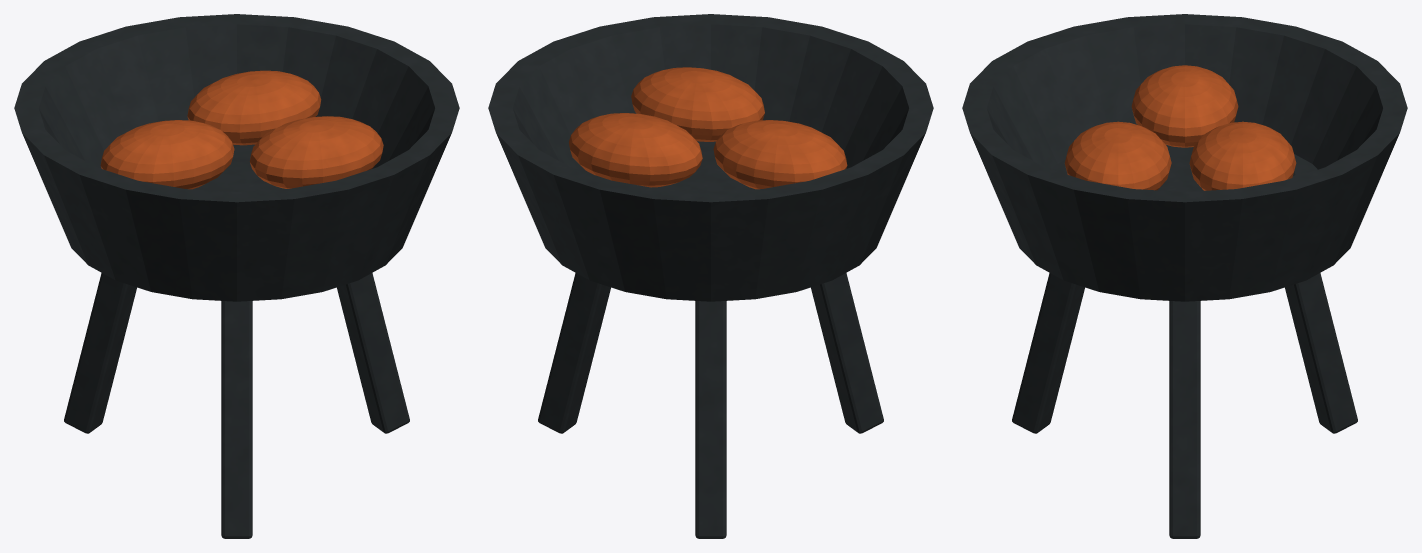
Rendered from Street_Brazier.fbx.
3 views of the same model, side by side, from view 1: azimuth 30°, elevation 25°; view 2: azimuth 150°, elevation 25°; view 3: azimuth 270°, elevation 25° (orthographic).
Parts seen in each view (by area): view 1: Street_Brazier.001; view 2: Street_Brazier.001; view 3: Street_Brazier.001.
Part boxes in pixels (x1,y1,x2,y2): Street_Brazier.001: [14, 14, 459, 538]; Street_Brazier.001: [488, 14, 933, 538]; Street_Brazier.001: [962, 14, 1407, 538].
Size of the model in its own units: 1 by 0.8816 by 1.
